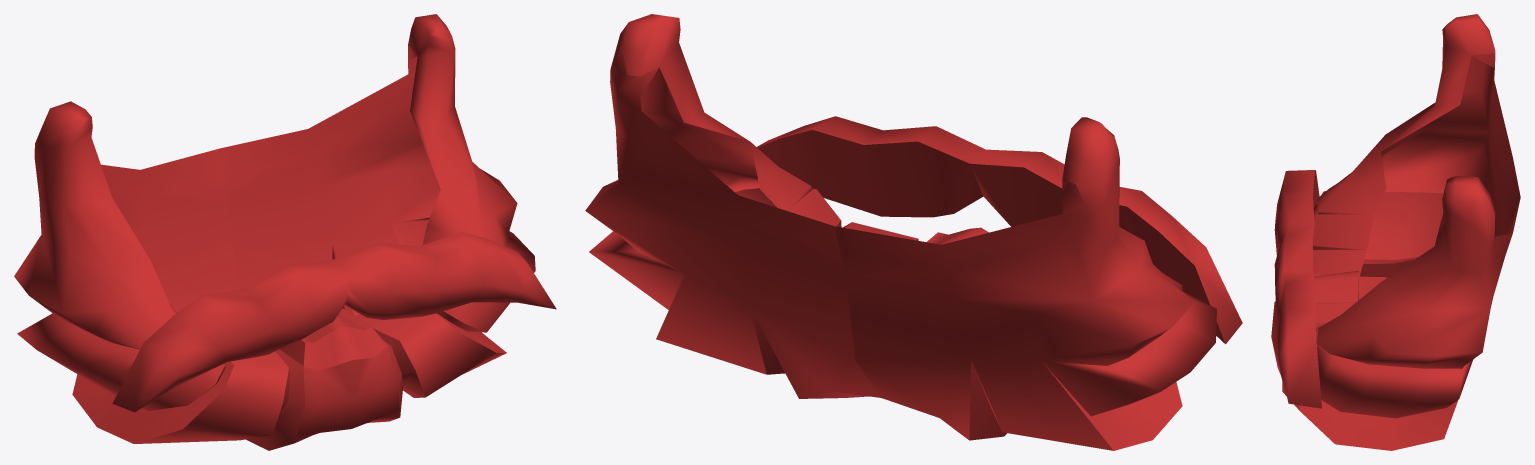
The model's file is Beard_Red_16.fbx.
3 views of the same model, side by side, from view 1: azimuth 30°, elevation 25°; view 2: azimuth 150°, elevation 25°; view 3: azimuth 270°, elevation 25° (orthographic). The views are drawn at different scales.
Parts seen in each view (by area): view 1: Beard_Red_16; view 2: Beard_Red_16; view 3: Beard_Red_16.
Boxes of the visible parts, x1,y1,x2,y2 form: Beard_Red_16: (14, 14, 556, 450); Beard_Red_16: (585, 14, 1242, 450); Beard_Red_16: (1271, 14, 1520, 450).
Size of the model in its own units: 61.15 by 39 by 30.01.
